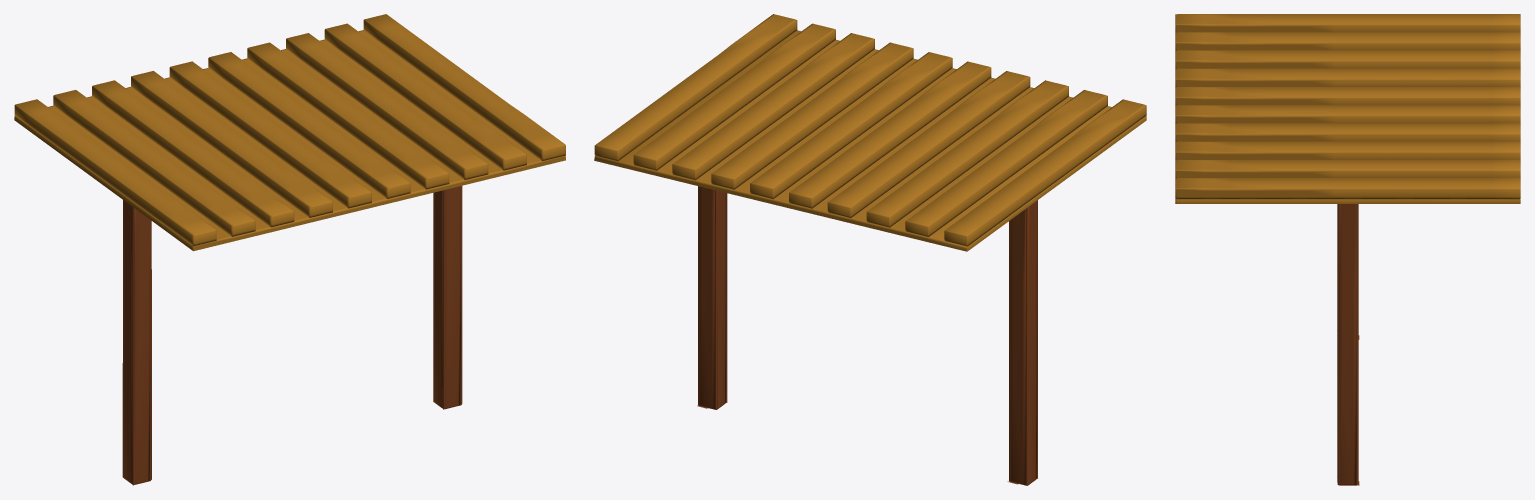
Rendered from Stand.fbx.
3 views of the same model, side by side, from view 1: azimuth 30°, elevation 25°; view 2: azimuth 150°, elevation 25°; view 3: azimuth 270°, elevation 25° (orthographic). The views are drawn at different scales.
Parts seen in each view (by area): view 1: wooden-grating-001, pole-adversign, pole-adversign.001; view 2: wooden-grating-001, pole-adversign, pole-adversign.001; view 3: wooden-grating-001, pole-adversign.001.
Part boxes in pixels (x1,y1,x2,y2): wooden-grating-001: (14,14,565,251); pole-adversign: (122,200,151,485); pole-adversign.001: (433,186,462,409); wooden-grating-001: (594,14,1146,251); pole-adversign: (1007,200,1037,485); pole-adversign.001: (697,186,727,409); wooden-grating-001: (1175,14,1520,203); pole-adversign.001: (1337,204,1359,485).
Bounding box in the file's own units: 518 × 422 × 432.
